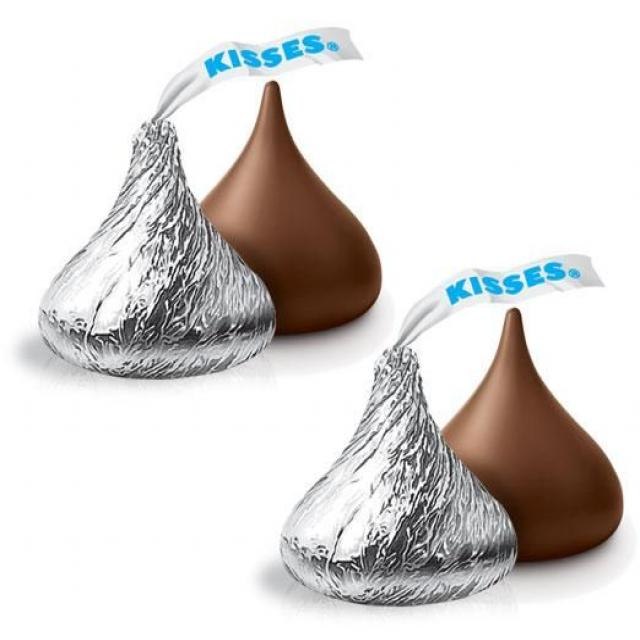kisses: (25, 80, 281, 383), (270, 335, 526, 614)
